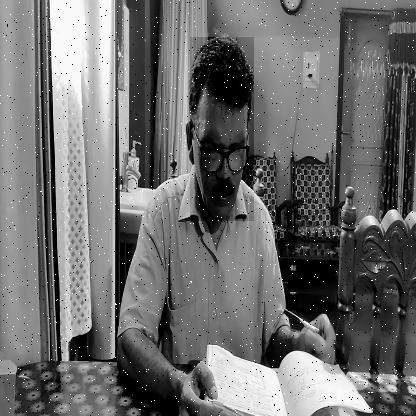Normal: (190, 38, 254, 222)
